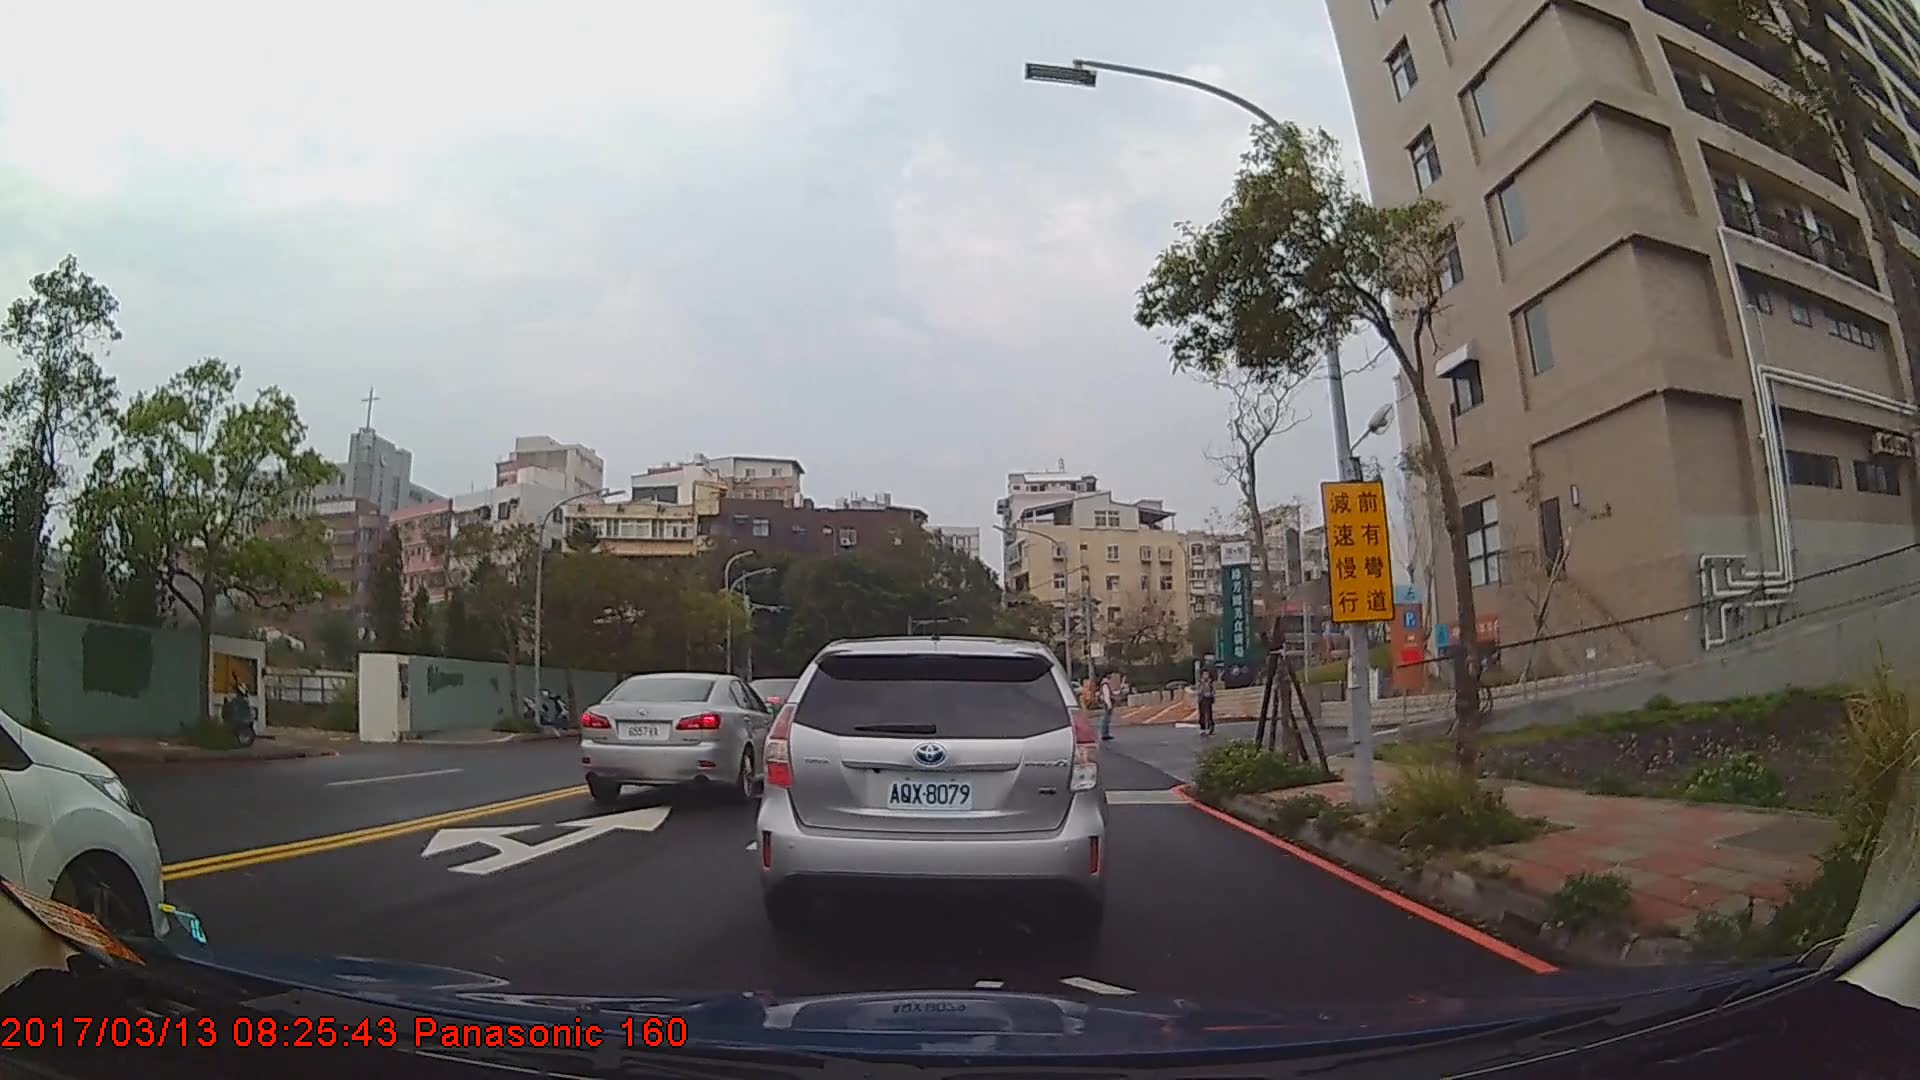pedestrian: (1097, 667, 1121, 743), (1196, 672, 1216, 736)
vehicle: (755, 636, 1111, 935), (0, 699, 169, 970), (576, 671, 785, 803)
